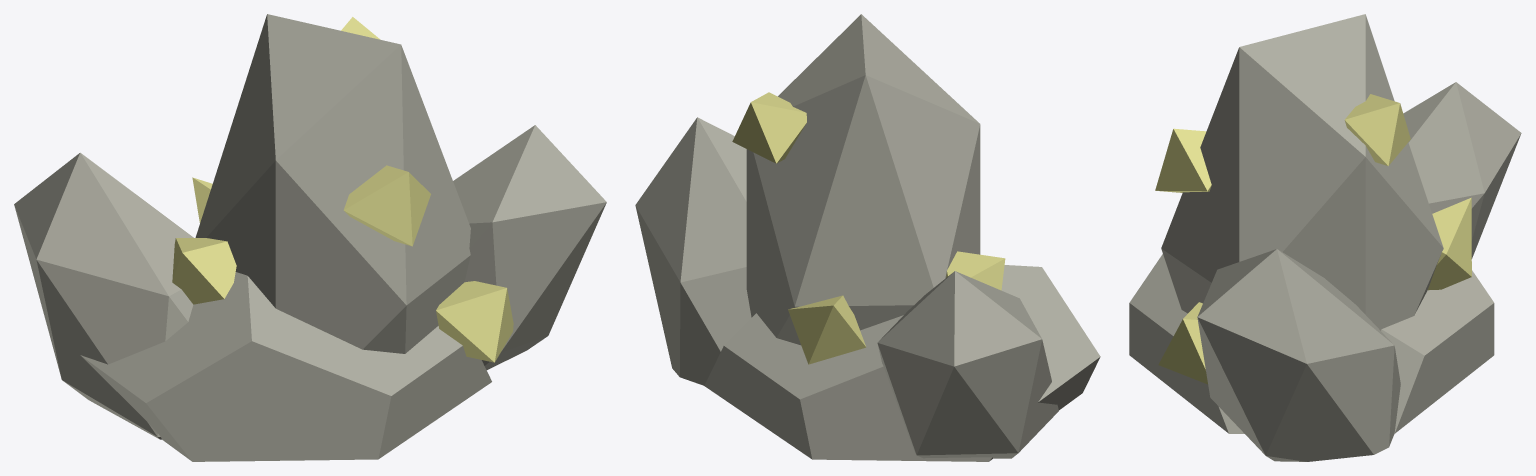
Rendered from ore_gold.fbx.
The picture shows the model from 3 angles, left to right: view 1: azimuth 30°, elevation 25°; view 2: azimuth 150°, elevation 25°; view 3: azimuth 270°, elevation 25°; orthographic projection. The views are drawn at different scales.
Parts seen in each view (by area): view 1: group1_pasted__group_pasted__pasted__pPlatonic1; view 2: group1_pasted__group_pasted__pasted__pPlatonic1; view 3: group1_pasted__group_pasted__pasted__pPlatonic1.
Boxes of the visible parts, x1,y1,x2,y2 form: group1_pasted__group_pasted__pasted__pPlatonic1: (14,14,606,461); group1_pasted__group_pasted__pasted__pPlatonic1: (635,14,1100,461); group1_pasted__group_pasted__pasted__pPlatonic1: (1129,14,1521,461).
Size of the model in its own units: 1.92 by 1.35 by 1.39.
